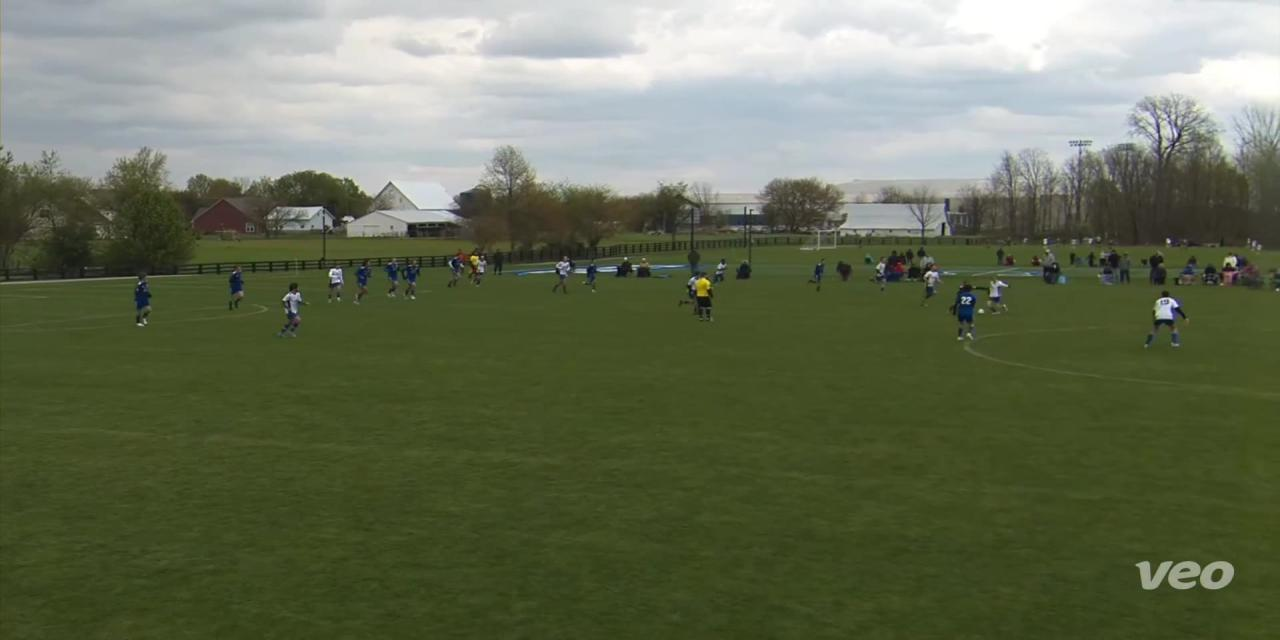sports ball: (974, 302, 990, 323)
